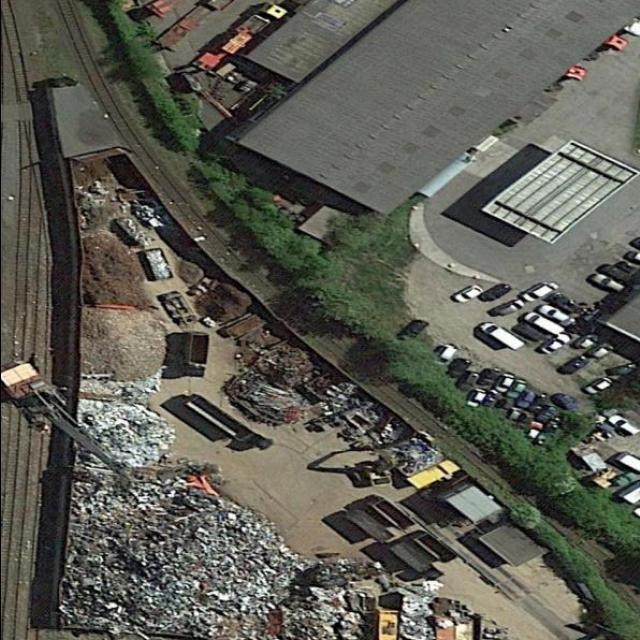dump_site: (63, 477, 379, 640), (211, 360, 318, 433), (73, 396, 168, 469), (399, 592, 433, 640)
